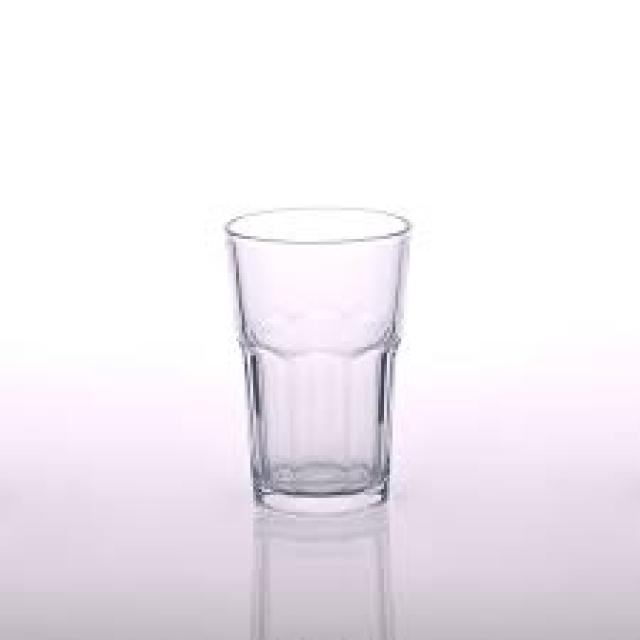glass: (225, 205, 410, 512)
